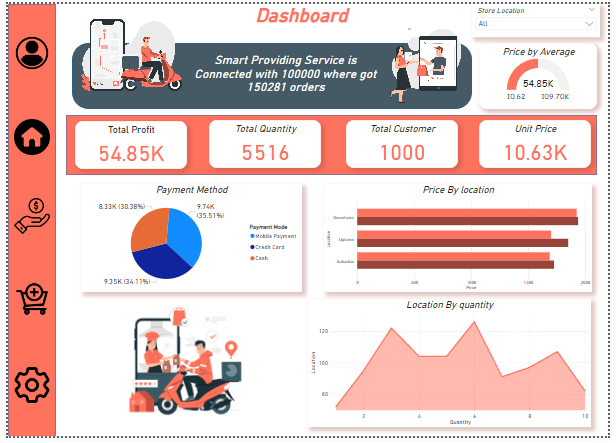

The page's visual inventory and layout, read from the dashboard file:
{"tool":"powerbi","page":{"name":"Page 2","canvas":[1500,1080],"ordinal":1},"visuals":[{"type":"textbox","title":"Dashboard","box":[455,0,557.5,70],"z":0},{"type":"shape","box":[0,0,120,1140],"z":1000},{"type":"image","box":[10,67.5,100,110],"z":2000},{"type":"shape","box":[160,97.5,1000,165],"z":3000},{"type":"textbox","title":"Smart Providing Service is Connected with 100000 where got 150281 orders","box":[440,122.5,507.5,115],"z":4000},{"type":"image","box":[10,277.5,100,110],"z":5000},{"type":"image","box":[10,682.5,100,110],"z":6000},{"type":"image","box":[130,7.5,337.5,235],"z":7000},{"type":"shape","box":[865,200,140,40],"z":8000},{"type":"image","box":[10,897.5,100,110],"z":9000},{"type":"image","box":[10,475,100,110],"z":10000},{"type":"slicer","title":"Store Location","fields":{"Values":["data.store_location"]},"box":[1160,0,320,82.5],"z":11000},{"type":"clusteredBarChart","title":"Price By location","fields":{"Category":["data.store_location"],"Y":["Sum(data.unit_price)","Sum(data.quantity)"]},"box":[790,450,670,270],"z":12000},{"type":"pieChart","title":"Payment Method","fields":{"Category":["data.payment_method"],"Y":["Sum(data.total_price)"]},"box":[182.5,450,552.5,270],"z":13000},{"type":"shape","box":[145,277.5,1327.5,150],"z":14000},{"type":"stackedAreaChart","title":"Location By quantity ","fields":{"Category":["data.quantity"],"Y":["CountNonNull(data.store_location)"]},"box":[750,737.5,707.5,320],"z":15000},{"type":"image","box":[935,52.5,217.5,210],"z":16000},{"type":"gauge","title":"Price by Average","fields":{"Y":["Sum(data.total_price)"],"MinValue":["Avg(data.unit_price)"]},"box":[1177.5,97.5,295,165],"z":17000},{"type":"image","box":[182.5,737.5,515,317.5],"z":18000},{"type":"card","title":"Total Profit","fields":{"Values":["Sum(data.total_price)"]},"box":[167.5,292,280,120],"z":18500,"group":"g1"},{"type":"card","title":"Total Quantity","fields":{"Values":["Sum(data.quantity)"]},"box":[502.5,290,280,120],"z":19000,"group":"g1"},{"type":"group","id":"g1","title":"Group 1","box":[167.5,290,1290,122],"z":19000},{"type":"card","title":"Total Customer","fields":{"Values":["Count(data.transaction_id)"]},"box":[845,290,280,120],"z":19500,"group":"g1"},{"type":"card","title":"Unit Price","fields":{"Values":["Sum(data.unit_price)"]},"box":[1177.5,290,280,120],"z":20000,"group":"g1"}]}

Visuals, with their boxes in screenshot pixels (x1, y1, x2, y2), scaled from the page's 1500x1080 canvas onto the 616x443 screenshot:
"Dashboard" textbox: pyautogui.locateOnScreen(187, 0, 416, 29)
shape: pyautogui.locateOnScreen(0, 0, 49, 442)
image: pyautogui.locateOnScreen(4, 28, 45, 73)
shape: pyautogui.locateOnScreen(66, 40, 476, 108)
"Smart Providing Service is Connected with 100000 where got 150281 orders" textbox: pyautogui.locateOnScreen(181, 50, 389, 97)
image: pyautogui.locateOnScreen(4, 114, 45, 159)
image: pyautogui.locateOnScreen(4, 280, 45, 325)
image: pyautogui.locateOnScreen(53, 3, 192, 99)
shape: pyautogui.locateOnScreen(355, 82, 413, 98)
image: pyautogui.locateOnScreen(4, 368, 45, 413)
image: pyautogui.locateOnScreen(4, 195, 45, 240)
"Store Location" slicer: pyautogui.locateOnScreen(476, 0, 608, 34)
"Price By location" clusteredBarChart: pyautogui.locateOnScreen(324, 185, 600, 295)
"Payment Method" pieChart: pyautogui.locateOnScreen(75, 185, 302, 295)
shape: pyautogui.locateOnScreen(60, 114, 605, 175)
"Location By quantity " stackedAreaChart: pyautogui.locateOnScreen(308, 303, 599, 434)
image: pyautogui.locateOnScreen(384, 22, 473, 108)
"Price by Average" gauge: pyautogui.locateOnScreen(484, 40, 605, 108)
image: pyautogui.locateOnScreen(75, 303, 286, 433)
"Total Profit" card: pyautogui.locateOnScreen(69, 120, 184, 169)
"Total Quantity" card: pyautogui.locateOnScreen(206, 119, 321, 168)
"Group 1" group: pyautogui.locateOnScreen(69, 119, 599, 169)
"Total Customer" card: pyautogui.locateOnScreen(347, 119, 462, 168)
"Unit Price" card: pyautogui.locateOnScreen(484, 119, 599, 168)
